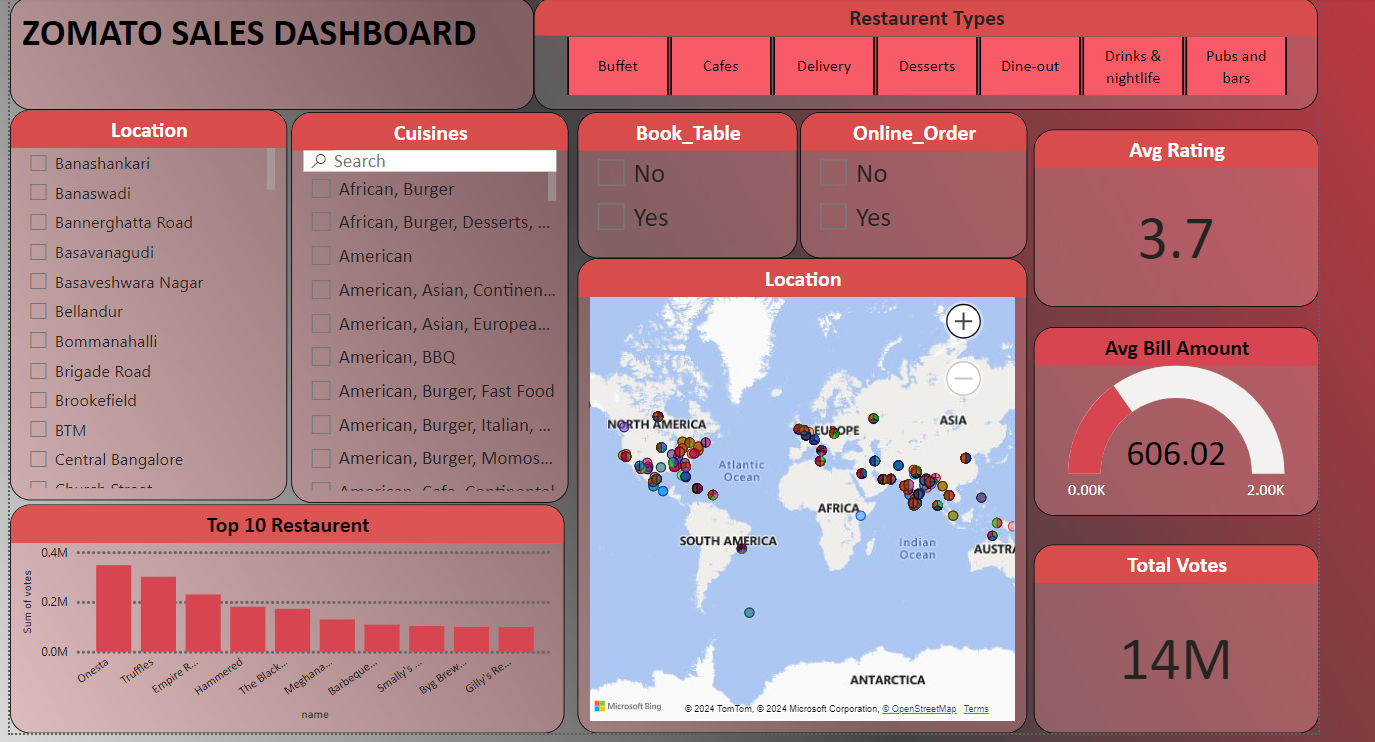

This screenshot's page, from the dashboard's own definition file:
{"tool":"powerbi","page":{"name":"Page 1","canvas":[1280,720],"ordinal":0},"visuals":[{"type":"gauge","title":"Avg Bill Amount","fields":{"Y":["Avg(zomato.approx_cost(for two people))"]},"box":[1001.5,322.8,278.8,184.6],"z":0},{"type":"textbox","box":[0,0,512.5,110],"z":1000},{"type":"card","title":"Total Votes","fields":{"Values":["Sum(zomato.votes)"]},"box":[1001.2,535.3,278.8,184.6],"z":2000},{"type":"slicer","title":"Restaurent Types","fields":{"Values":["zomato.listed_in(type)"]},"box":[512.5,0,767.5,110],"z":3000},{"type":"slicer","title":"Location","fields":{"Values":["zomato.location"]},"box":[0,110,271.2,382.5],"z":4000},{"type":"card","title":"Avg Rating","fields":{"Values":["Avg(zomato.rate)"]},"box":[1001.5,129.6,278.8,173.6],"z":5000},{"type":"columnChart","title":"Top 10 Restaurent ","fields":{"Category":["zomato.name"],"Y":["Sum(zomato.votes)"]},"box":[0,496.2,542.5,223.8],"z":6000},{"type":"slicer","title":"Book_Table","fields":{"Values":["zomato.book_table"]},"box":[555.2,112.5,215.2,143.1],"z":7000},{"type":"slicer","title":"Online_Order","fields":{"Values":["zomato.online_order"]},"box":[772.8,112.5,222.6,143.1],"z":8000},{"type":"slicer","title":"Cuisines","fields":{"Values":["zomato.cuisines"]},"box":[275,112.5,271.2,382.5],"z":9000},{"type":"map","title":"Location","fields":{"Category":["zomato.cuisines"],"Series":["zomato.location"]},"box":[555.1,256,439.7,464.7],"z":10000}]}

Visuals, with their boxes in screenshot pixels (x1, y1, x2, y2):
"Avg Bill Amount" gauge: crop(1020, 321, 1303, 508)
textbox: crop(4, 0, 524, 105)
"Total Votes" card: crop(1020, 536, 1303, 724)
"Restaurent Types" slicer: crop(524, 0, 1303, 105)
"Location" slicer: crop(4, 105, 279, 493)
"Avg Rating" card: crop(1020, 124, 1303, 301)
"Top 10 Restaurent " columnChart: crop(4, 497, 554, 724)
"Book_Table" slicer: crop(567, 107, 786, 252)
"Online_Order" slicer: crop(788, 107, 1014, 252)
"Cuisines" slicer: crop(283, 107, 558, 495)
"Location" map: crop(567, 253, 1014, 725)
